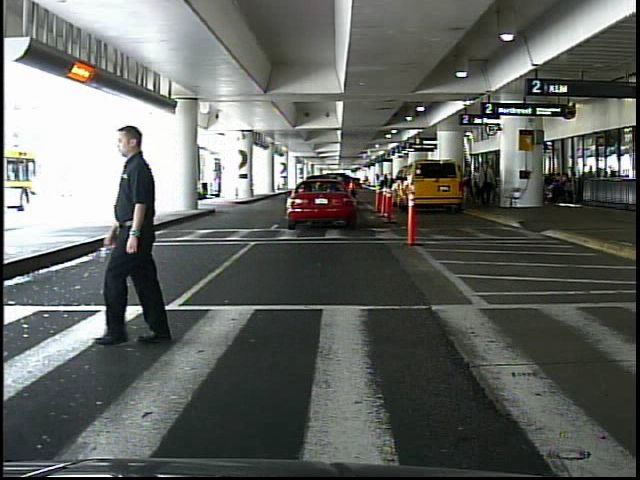person: (86, 125, 192, 352), (478, 163, 496, 208)
